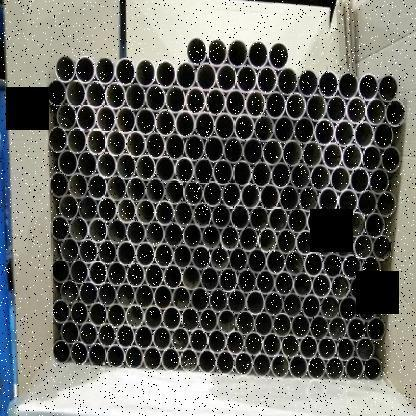pipe: (226, 38, 249, 67), (144, 82, 166, 112), (134, 58, 156, 87), (94, 55, 116, 84), (276, 66, 298, 95), (206, 37, 228, 66), (164, 84, 186, 113), (184, 86, 206, 115), (268, 40, 289, 70), (124, 82, 146, 110), (74, 55, 96, 83), (154, 108, 176, 136), (84, 80, 106, 108), (224, 88, 245, 117), (155, 59, 176, 88), (205, 87, 226, 116), (186, 36, 207, 65), (265, 90, 286, 119), (245, 89, 266, 118), (106, 80, 126, 110), (134, 107, 156, 134), (55, 54, 76, 82), (115, 106, 136, 134), (95, 104, 116, 132), (86, 127, 107, 155), (115, 57, 136, 85), (175, 61, 196, 89), (293, 116, 314, 144), (378, 74, 399, 102), (115, 152, 136, 180), (203, 134, 224, 162), (194, 111, 215, 139), (262, 138, 283, 166), (174, 110, 195, 138), (236, 64, 257, 92), (365, 97, 386, 125), (345, 96, 366, 124), (322, 142, 343, 170), (253, 114, 274, 142), (257, 65, 277, 94), (216, 63, 236, 92), (196, 62, 216, 91), (248, 40, 268, 69), (298, 67, 318, 96), (380, 146, 402, 172), (278, 184, 300, 210), (368, 168, 390, 194), (106, 174, 127, 201), (212, 158, 233, 185), (271, 161, 292, 188), (285, 92, 306, 119), (384, 99, 405, 126), (341, 143, 362, 170), (125, 130, 145, 158), (56, 102, 76, 130), (46, 78, 66, 106), (164, 132, 184, 160), (66, 79, 86, 107), (223, 136, 243, 164), (214, 112, 234, 140), (87, 172, 107, 200), (373, 121, 393, 149), (274, 115, 294, 143), (350, 166, 370, 194), (302, 140, 322, 168), (338, 188, 358, 216), (234, 113, 254, 141), (338, 71, 358, 99), (318, 70, 338, 98), (306, 93, 326, 121), (354, 120, 374, 148), (144, 220, 165, 246), (298, 186, 319, 212), (125, 176, 146, 202), (182, 223, 203, 249), (193, 158, 214, 184), (145, 132, 166, 158), (106, 260, 127, 286), (333, 232, 354, 258), (200, 224, 221, 250), (106, 218, 127, 244), (106, 129, 126, 156), (77, 150, 97, 177), (358, 73, 378, 100), (155, 155, 175, 182), (66, 127, 86, 154), (362, 144, 382, 171), (314, 118, 334, 145), (96, 151, 116, 178), (334, 119, 354, 146), (184, 134, 204, 161), (251, 160, 271, 187), (326, 95, 346, 122), (154, 242, 174, 268), (164, 222, 184, 248), (116, 197, 136, 223), (192, 202, 212, 228), (173, 200, 193, 226), (135, 154, 155, 180), (97, 196, 117, 222), (306, 209, 326, 235), (145, 177, 165, 203), (58, 194, 78, 220), (154, 200, 174, 226), (88, 217, 108, 243), (58, 149, 78, 175), (50, 172, 70, 198), (164, 178, 184, 204), (78, 195, 98, 221), (126, 219, 146, 245), (78, 238, 98, 264), (184, 180, 204, 206), (97, 239, 117, 265), (258, 226, 278, 252), (282, 140, 302, 166), (190, 244, 210, 270), (174, 156, 194, 182), (76, 104, 96, 130), (314, 230, 334, 256), (172, 243, 192, 269), (135, 198, 155, 224), (290, 163, 310, 189), (135, 241, 155, 267), (364, 212, 384, 238), (318, 187, 338, 213), (50, 215, 70, 241), (116, 240, 136, 266), (232, 160, 252, 186), (357, 190, 377, 216), (288, 207, 308, 233), (310, 164, 330, 190), (304, 250, 324, 276), (181, 264, 201, 290), (68, 216, 88, 242), (48, 126, 68, 152), (330, 166, 350, 192), (274, 270, 294, 296), (345, 211, 365, 237), (312, 272, 332, 298), (97, 281, 117, 307), (349, 275, 369, 301), (190, 286, 210, 312), (200, 266, 220, 292), (68, 172, 88, 198), (134, 324, 154, 350), (282, 292, 302, 318), (330, 274, 350, 300), (134, 283, 154, 309), (172, 285, 192, 311), (268, 206, 288, 232), (276, 228, 296, 254), (59, 236, 79, 262), (242, 138, 262, 164), (284, 250, 304, 276), (376, 191, 396, 217), (59, 278, 79, 304), (326, 209, 346, 235), (88, 260, 108, 286), (202, 180, 221, 207), (327, 316, 348, 340), (124, 304, 145, 328), (144, 263, 164, 288), (322, 252, 342, 277), (336, 336, 356, 361), (125, 262, 145, 287), (78, 281, 98, 306), (106, 302, 126, 327), (357, 297, 377, 322), (262, 333, 282, 358), (368, 276, 388, 301), (152, 325, 171, 351), (163, 263, 182, 289), (230, 204, 249, 230), (162, 304, 181, 330), (237, 268, 256, 294), (320, 294, 339, 320), (180, 306, 199, 332), (116, 282, 135, 308), (264, 290, 283, 316), (372, 234, 391, 260), (242, 182, 260, 209), (342, 254, 362, 278), (366, 316, 386, 340), (325, 356, 345, 380), (161, 347, 180, 372), (171, 326, 190, 351), (97, 323, 116, 348), (125, 344, 144, 369), (51, 258, 70, 283), (79, 321, 98, 346), (252, 352, 271, 377), (88, 301, 107, 326), (271, 353, 290, 378), (307, 354, 326, 379), (289, 354, 308, 379), (52, 339, 71, 364), (106, 343, 125, 368), (212, 203, 230, 229), (180, 347, 198, 373), (250, 205, 268, 231), (229, 246, 247, 272), (240, 226, 258, 252), (154, 284, 172, 310), (70, 258, 88, 284), (219, 267, 237, 293), (221, 224, 239, 250), (222, 182, 240, 208), (248, 248, 266, 274), (296, 230, 314, 256), (362, 255, 380, 281), (246, 289, 264, 315), (228, 288, 246, 314), (354, 233, 372, 259), (234, 350, 252, 376), (210, 245, 228, 271), (218, 308, 236, 334), (292, 313, 310, 339), (52, 298, 70, 324), (310, 314, 328, 340), (294, 272, 312, 298), (188, 328, 207, 352), (116, 324, 135, 348), (143, 346, 162, 370), (60, 320, 79, 344), (256, 269, 274, 294), (266, 249, 284, 274), (198, 349, 216, 374), (70, 300, 88, 325), (144, 304, 162, 329), (208, 328, 226, 353), (260, 184, 278, 209), (347, 316, 365, 341), (356, 336, 374, 361), (254, 311, 272, 336), (273, 312, 291, 337), (70, 340, 88, 365), (244, 331, 262, 356), (300, 335, 318, 360), (364, 356, 382, 381), (339, 296, 357, 320), (88, 342, 106, 366), (236, 310, 254, 334), (209, 288, 227, 312), (216, 350, 234, 374), (200, 308, 218, 332), (345, 356, 363, 380), (226, 330, 244, 354), (281, 334, 299, 358), (318, 336, 336, 360), (302, 294, 320, 318)
